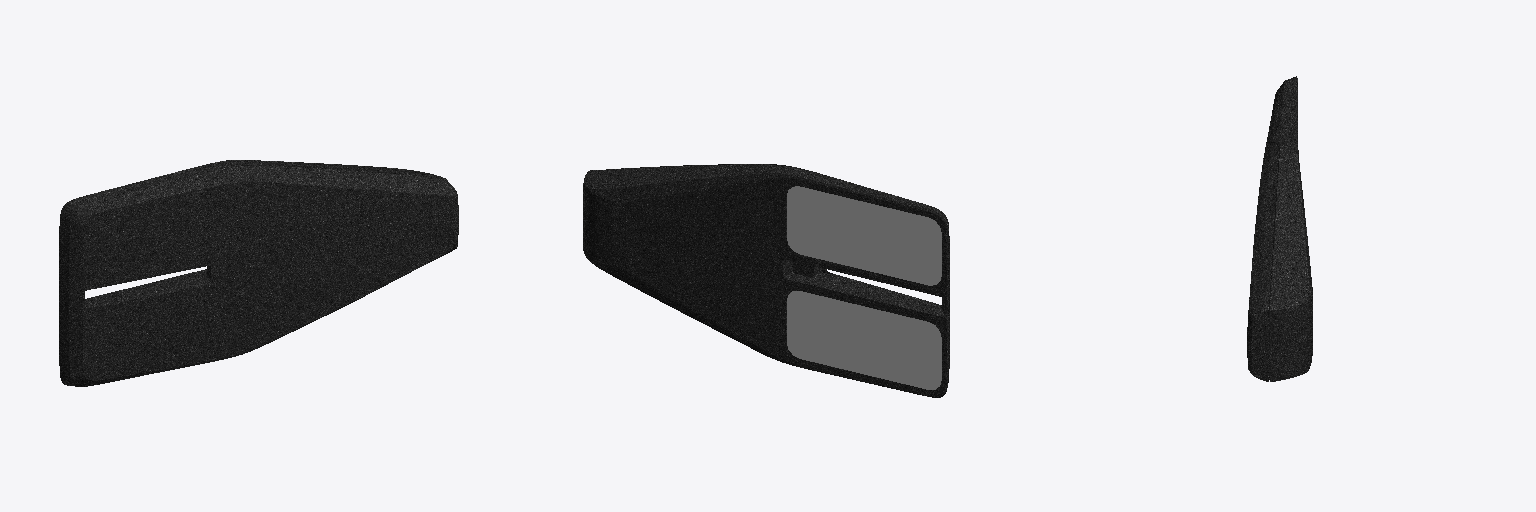
The picture shows the model from 3 angles: view 1: azimuth 30°, elevation 25°; view 2: azimuth 150°, elevation 25°; view 3: azimuth 270°, elevation 25°; orthographic projection.
Visible parts, largest first — view 1: Siteco_Streetlight_11_Midi; view 2: Siteco_Streetlight_11_Midi; view 3: Siteco_Streetlight_11_Midi.
Boxes of the visible parts, x1=… form: Siteco_Streetlight_11_Midi: x1=59, y1=160, x2=458, y2=386; Siteco_Streetlight_11_Midi: x1=583, y1=164, x2=949, y2=397; Siteco_Streetlight_11_Midi: x1=1247, y1=76, x2=1312, y2=381.
Bounding box in the file's own units: 0.78 × 0.376 × 0.1186.
3 materials, 2 textured.